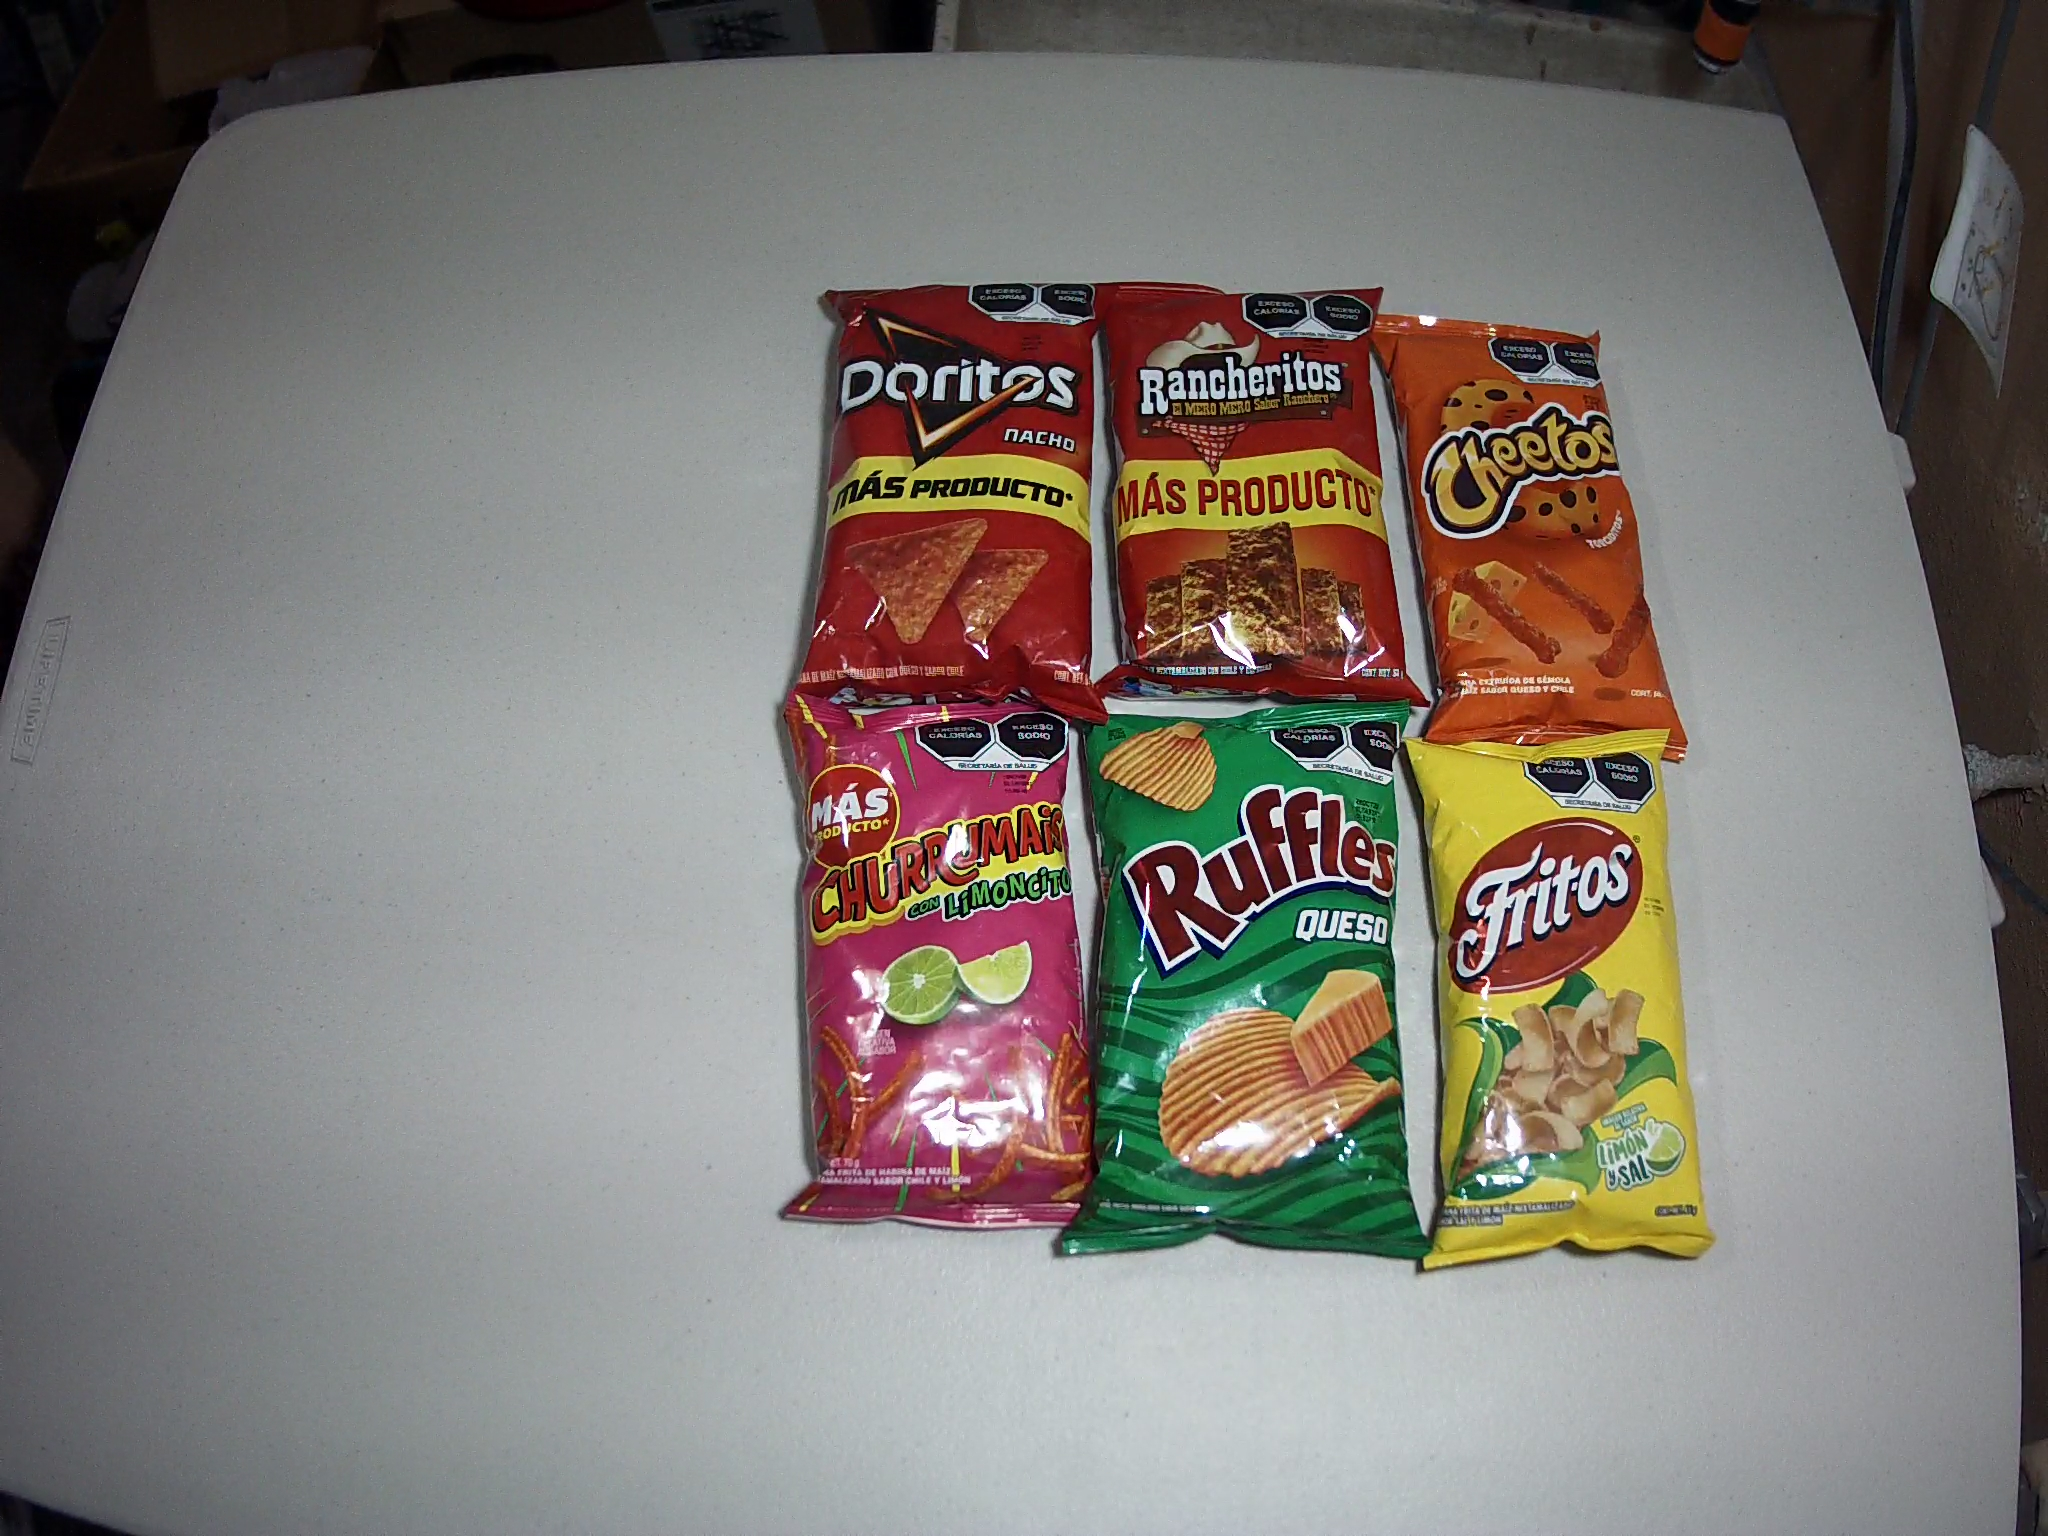CheetosTorciditos_55_F: (1372, 316, 1684, 745)
Churrumais_70_F: (780, 691, 1093, 1229)
DoritosN_61_F: (789, 279, 1106, 726)
FritosSalLimon_65_F: (1398, 729, 1714, 1271)
Rancheritos_58_F: (1090, 281, 1397, 705)
RufflesQ_48_F: (1061, 708, 1430, 1260)
